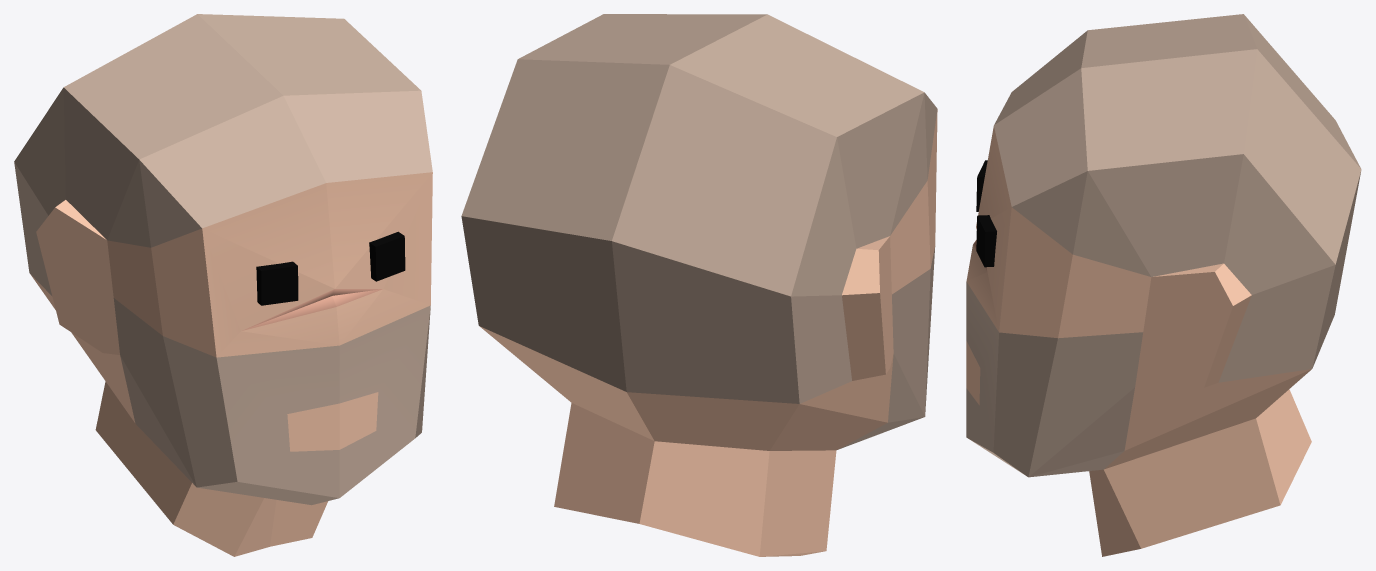
The model's file is Chr_Head_Male_01_Static.fbx.
3 views of the same model, side by side, from view 1: azimuth 30°, elevation 25°; view 2: azimuth 150°, elevation 25°; view 3: azimuth 270°, elevation 25° (orthographic). The views are drawn at different scales.
Parts seen in each view (by area): view 1: Chr_Head_Male_01_Static; view 2: Chr_Head_Male_01_Static; view 3: Chr_Head_Male_01_Static.
Boxes of the visible parts, <box> form: Chr_Head_Male_01_Static: <box>14,14,432,556</box>; Chr_Head_Male_01_Static: <box>461,14,937,556</box>; Chr_Head_Male_01_Static: <box>966,14,1361,556</box>.
Bounding box in the file's own units: 0.2661 × 0.3523 × 0.2574.
